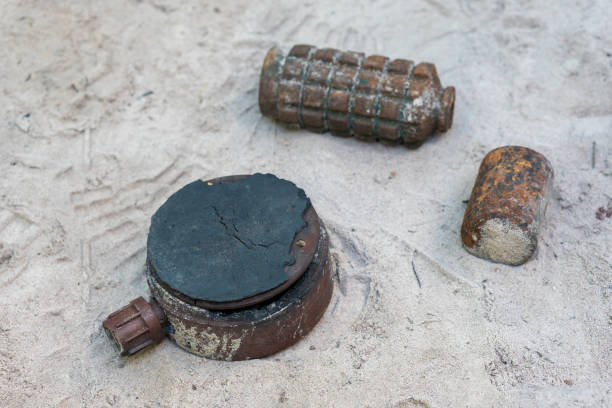e1: (257, 36, 457, 140)
